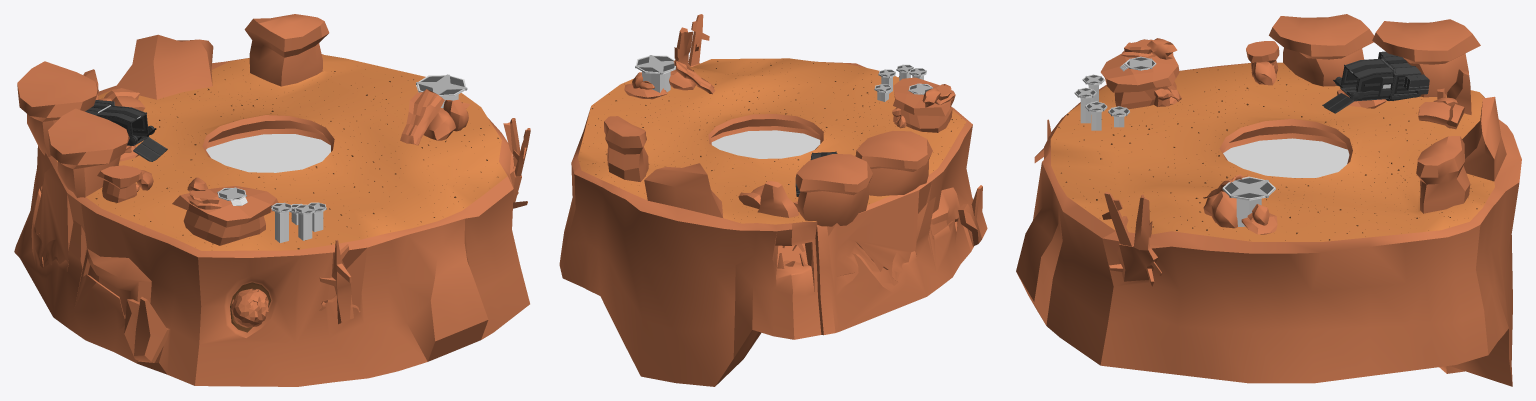
Rendered from Mapa3.fbx.
3 views of the same model, side by side, from view 1: azimuth 30°, elevation 25°; view 2: azimuth 150°, elevation 25°; view 3: azimuth 270°, elevation 25° (orthographic). The views are drawn at different scales.
Parts seen in each view (by area): view 1: Base mapa, Pilar roca.004, Pilar roca.007, Pilar roca.001, Nave, Roca larga, Pilar roca, Meteorito, Torre, Piedras, Roca.008, Torre.003 (+5 smaller); view 2: Base mapa, Pilar roca.007, Pilar roca.004, Pilar roca.001, Torre, Roca larga, Piedras, Roca.009; view 3: Base mapa, Pilar roca.004, Pilar roca.007, Nave, Pilar roca.001, Torre, Pilar roca.005, Piedras, Roca, Pilar roca, Roca.004, Pilar roca.003 (+3 smaller).
Part boxes in pixels (bbox=[...]): Base mapa: bbox=[14, 14, 530, 386]; Pilar roca.004: bbox=[48, 108, 129, 197]; Pilar roca.007: bbox=[17, 61, 98, 157]; Pilar roca.001: bbox=[172, 186, 278, 245]; Nave: bbox=[85, 100, 156, 145]; Roca larga: bbox=[400, 89, 444, 145]; Pilar roca: bbox=[97, 165, 142, 202]; Meteorito: bbox=[231, 288, 268, 327]; Torre: bbox=[416, 74, 467, 107]; Piedras: bbox=[95, 56, 499, 249]; Roca.008: bbox=[423, 108, 455, 140]; Torre.003: bbox=[271, 202, 292, 242]; Base mapa: bbox=[559, 14, 987, 386]; Pilar roca.007: bbox=[795, 154, 872, 226]; Pilar roca.004: bbox=[855, 131, 932, 196]; Pilar roca.001: bbox=[893, 77, 955, 132]; Torre: bbox=[635, 55, 675, 96]; Roca larga: bbox=[673, 60, 715, 94]; Piedras: bbox=[583, 59, 961, 222]; Roca.009: bbox=[624, 83, 667, 99]; Base mapa: bbox=[1016, 62, 1521, 386]; Pilar roca.004: bbox=[1269, 14, 1373, 86]; Pilar roca.007: bbox=[1372, 19, 1480, 97]; Nave: bbox=[1333, 51, 1429, 101]; Pilar roca.001: bbox=[1100, 54, 1179, 109]; Torre: bbox=[1222, 176, 1275, 226]; Pilar roca.005: bbox=[1418, 102, 1464, 129]; Piedras: bbox=[1054, 66, 1492, 240]; Roca: bbox=[1211, 191, 1237, 228]; Pilar roca: bbox=[1246, 41, 1279, 76]; Roca.004: bbox=[1251, 61, 1276, 85]; Pilar roca.003: bbox=[1121, 39, 1155, 57].
Bounding box in the file's own units: 16240 × 10321 × 17310.
